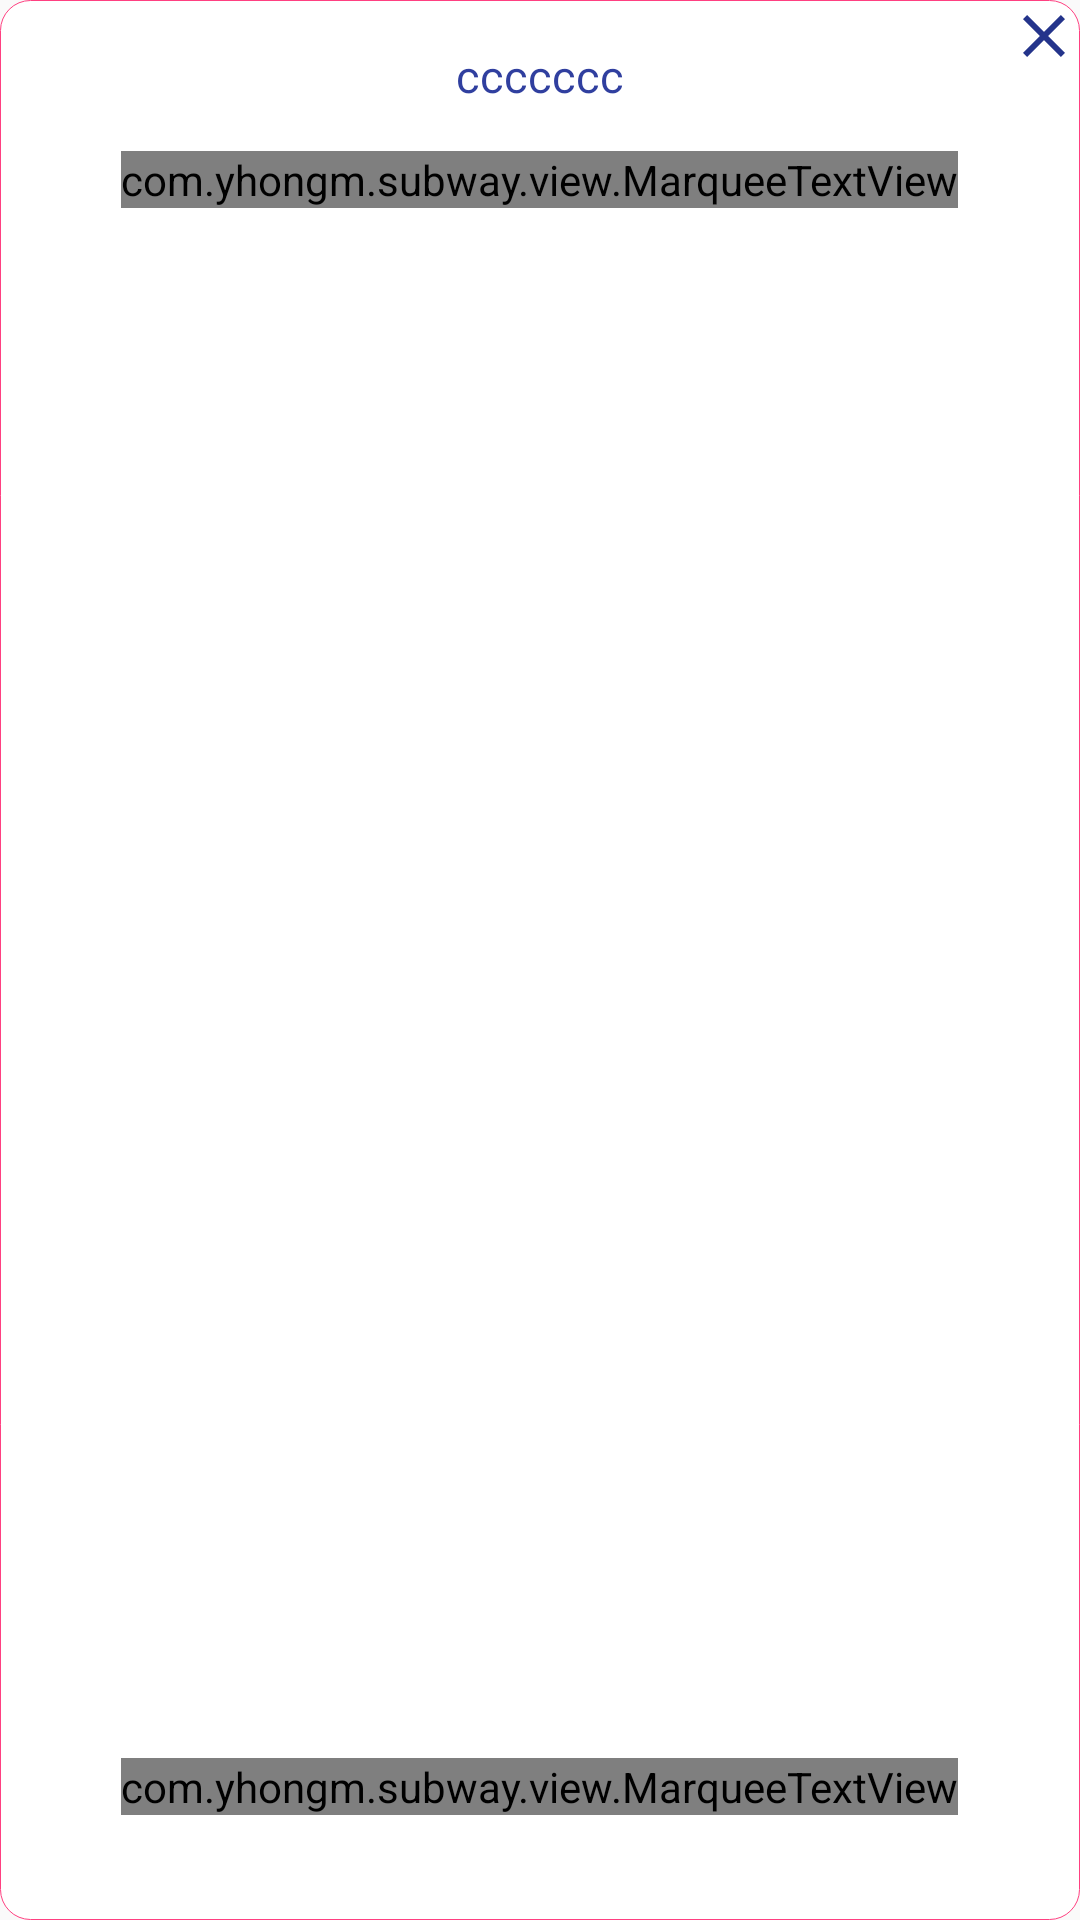

Icon click points for this 1080 × 1920 phone screenshot, format [x,y]:
close: [1044,36]
